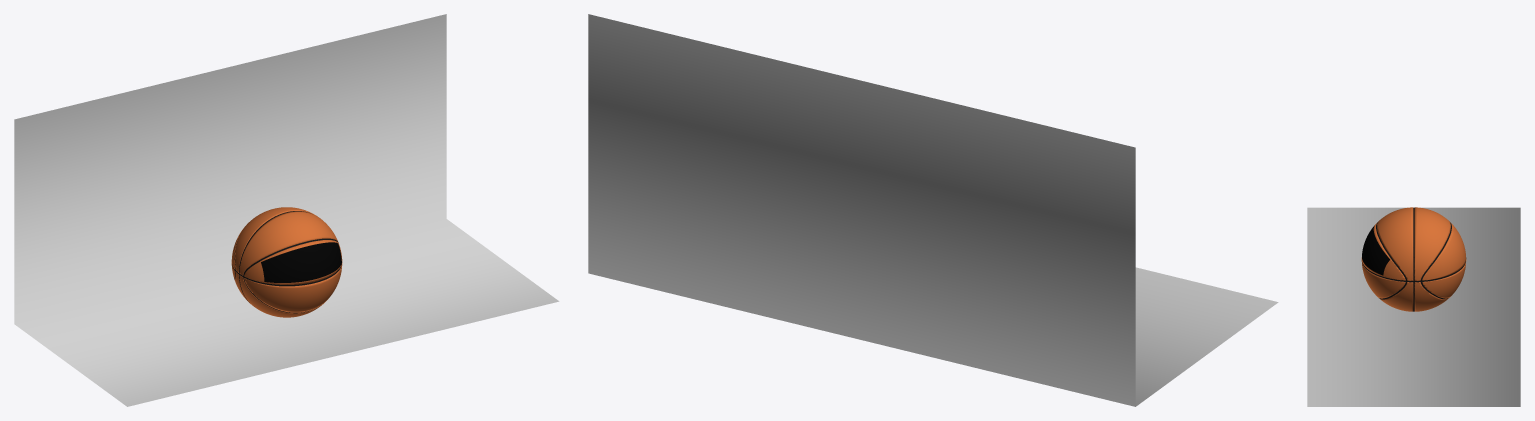
Rendered from basketball - Copy.fbx.
The picture shows the model from 3 angles, left to right: view 1: azimuth 30°, elevation 25°; view 2: azimuth 150°, elevation 25°; view 3: azimuth 270°, elevation 25°; orthographic projection. The views are drawn at different scales.
Visible parts, largest first — view 1: Cube, basketball; view 2: Cube; view 3: Cube, basketball.
Boxes of the visible parts, x1,y1,x2,y2 form: Cube: (14, 14, 559, 406); basketball: (231, 207, 342, 317); Cube: (588, 14, 1278, 406); Cube: (1307, 207, 1520, 406); basketball: (1361, 207, 1466, 311).
Size of the model in its own units: 903 by 409 by 409.
